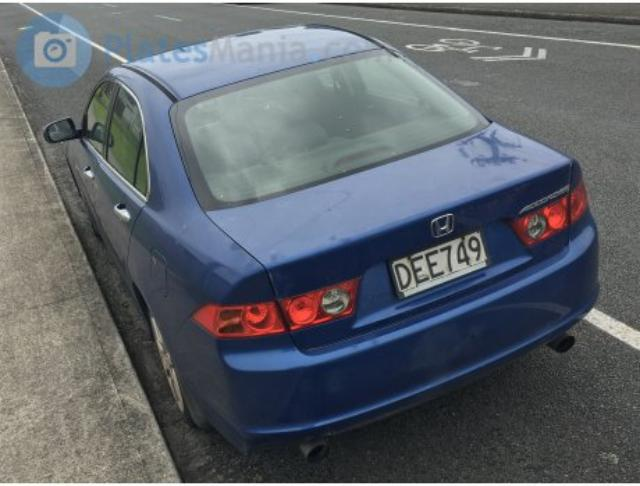Rego: (388, 229, 490, 299)
